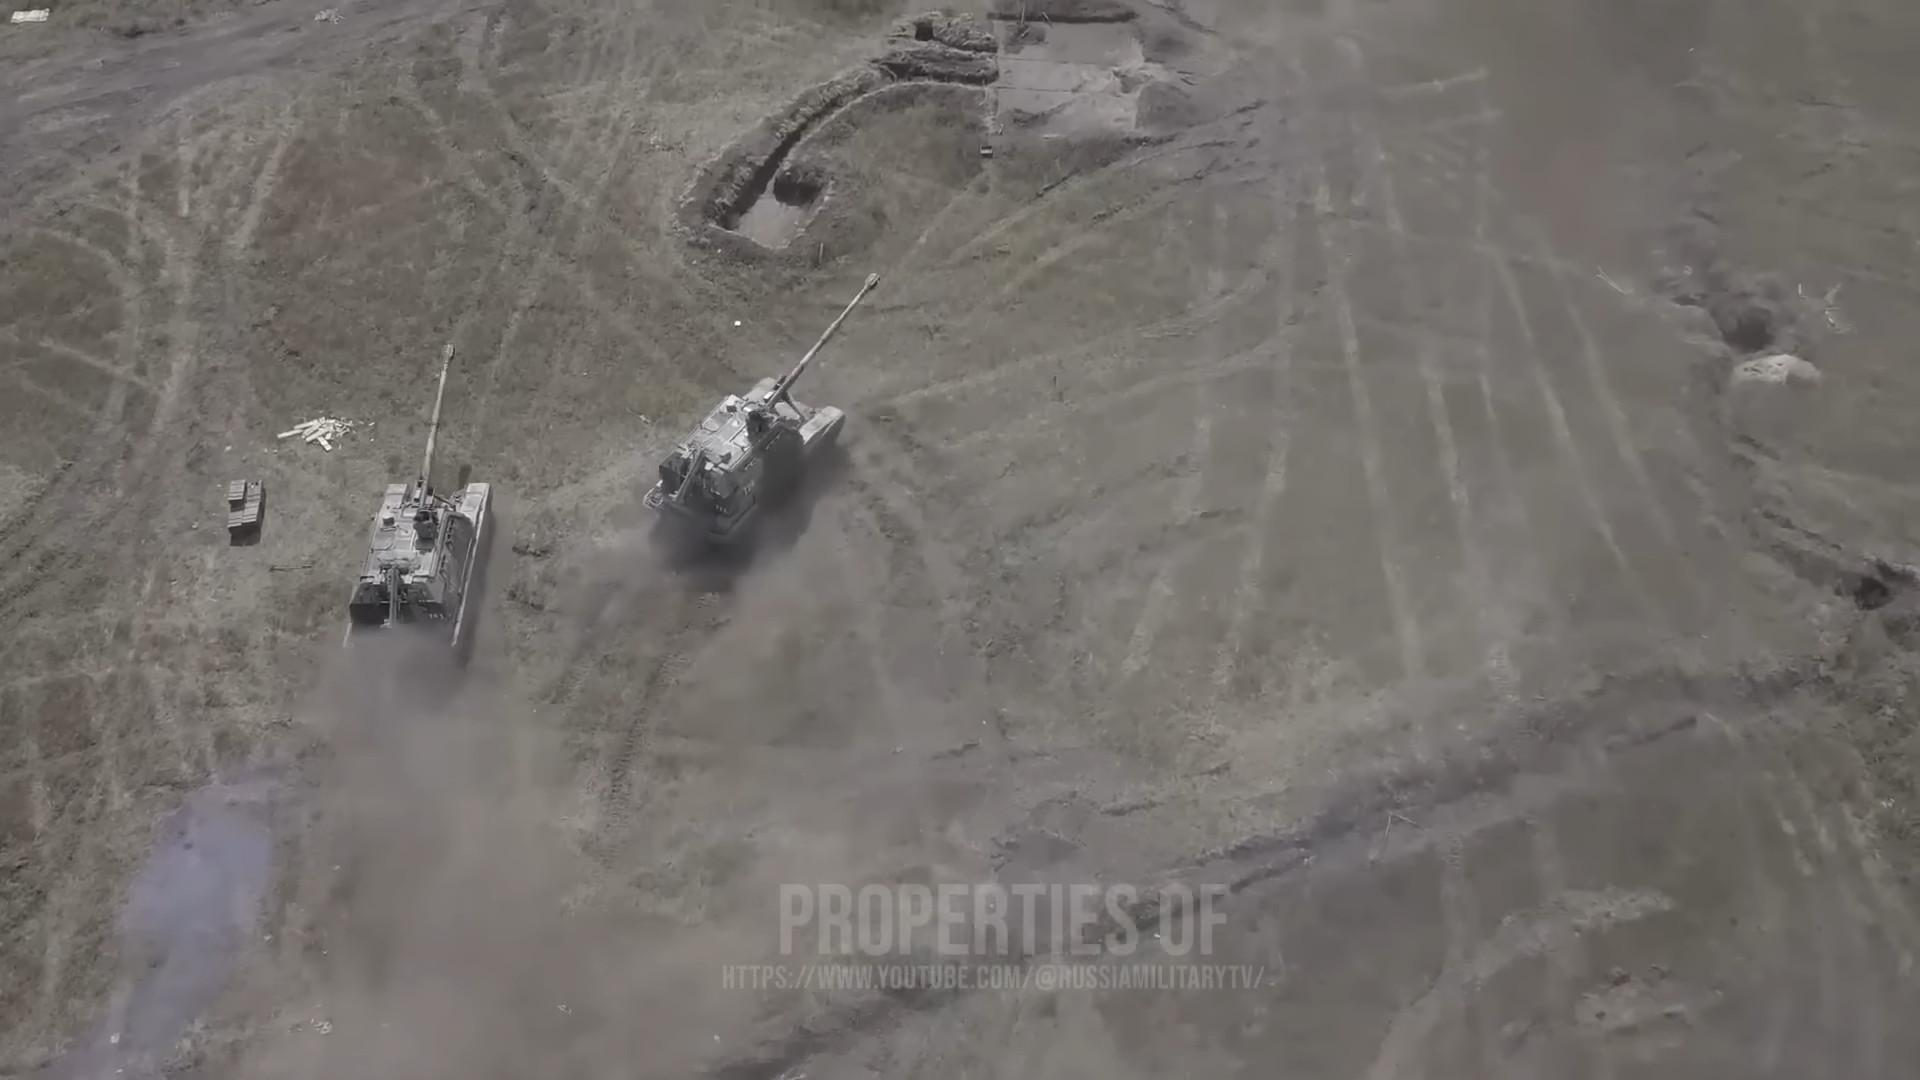tank: (642, 273, 882, 545), (340, 347, 492, 666)
